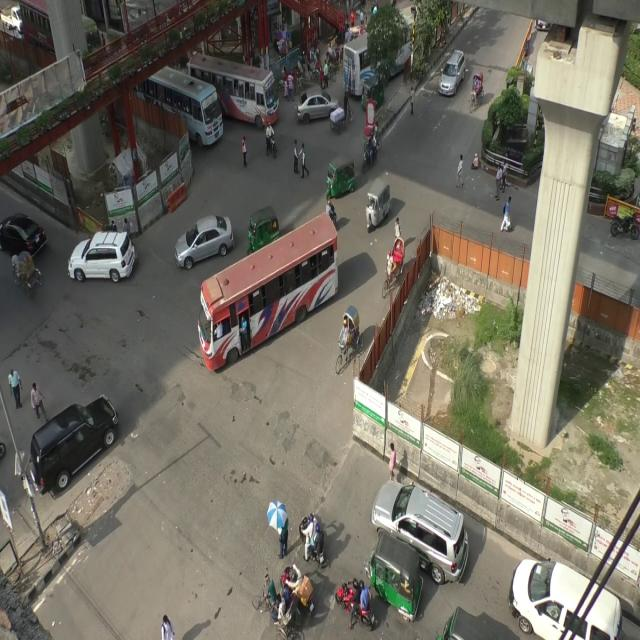Rikshaw-Py4o: (336, 295, 363, 385), (380, 230, 411, 292), (467, 70, 491, 114)
